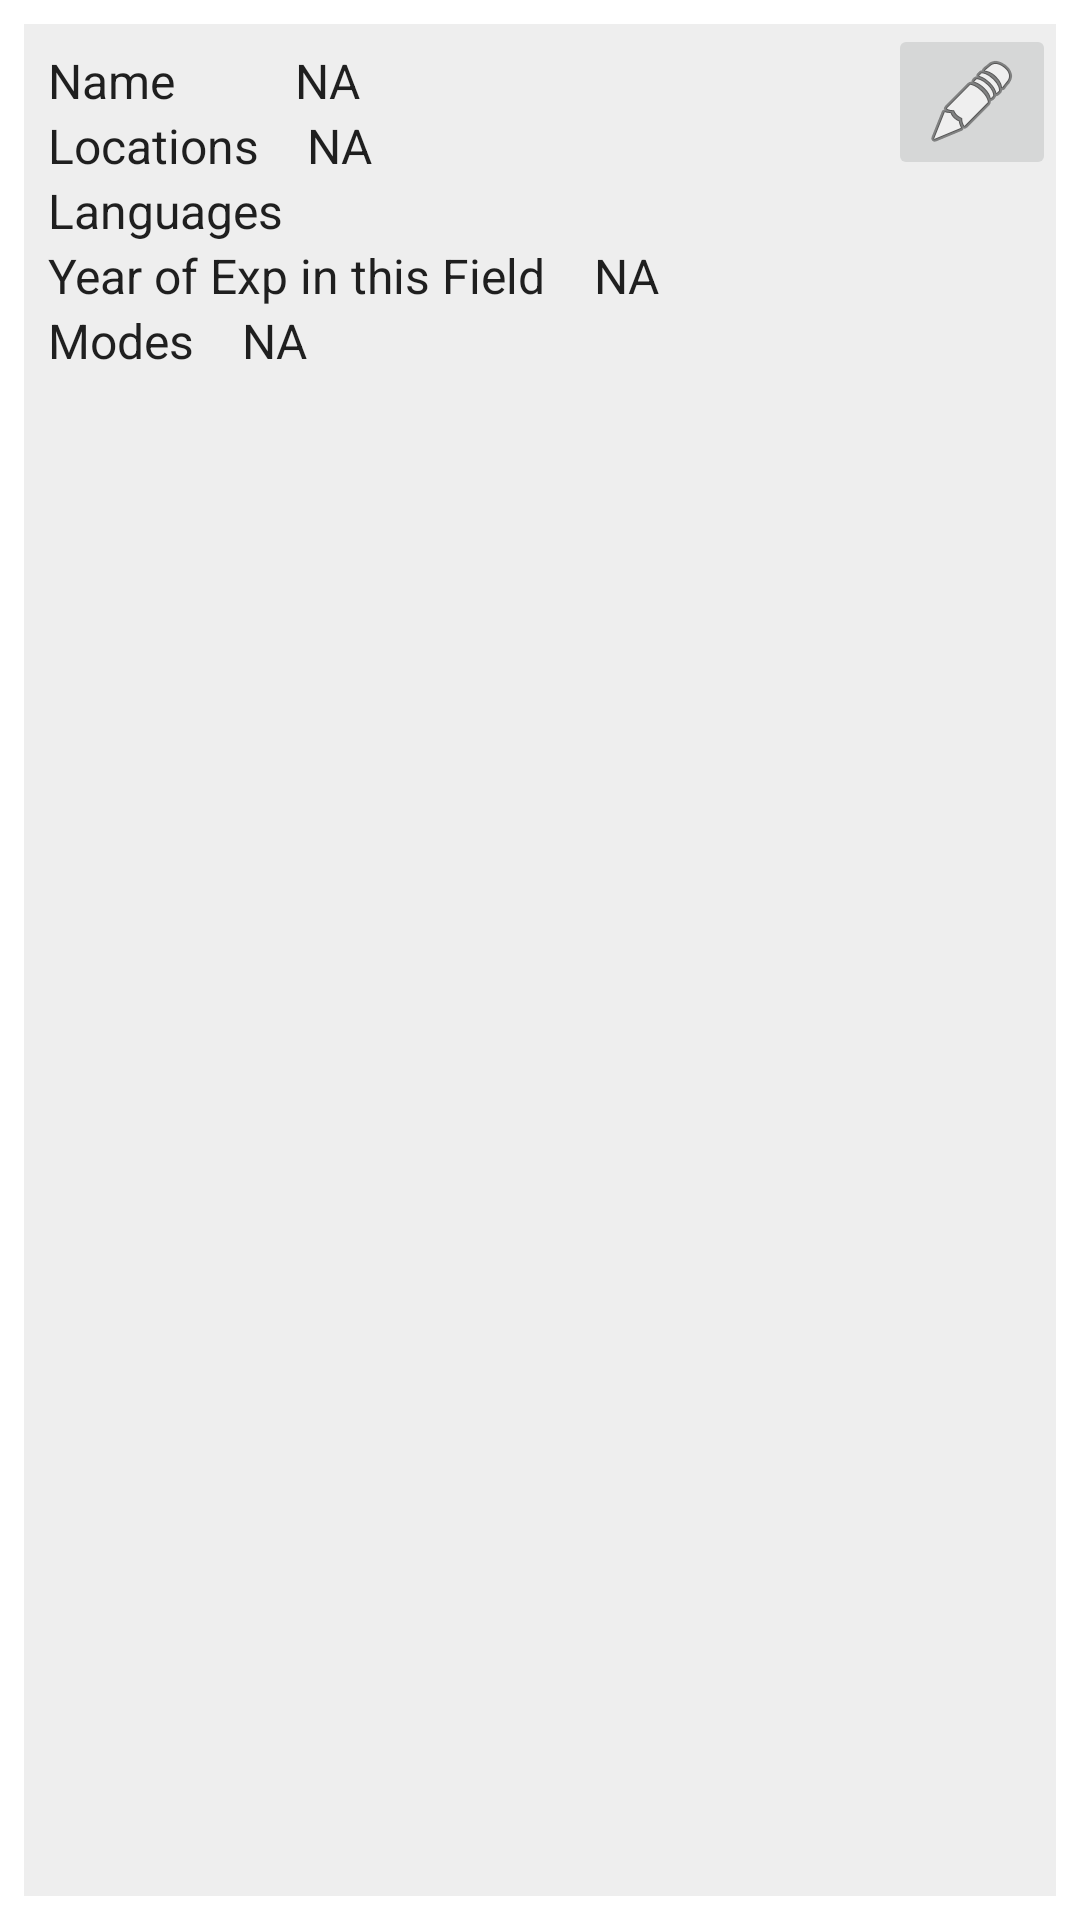

Named icons in this screenshot (1080 × 1920) and their centers, (x,y):
edit: (972,102)
